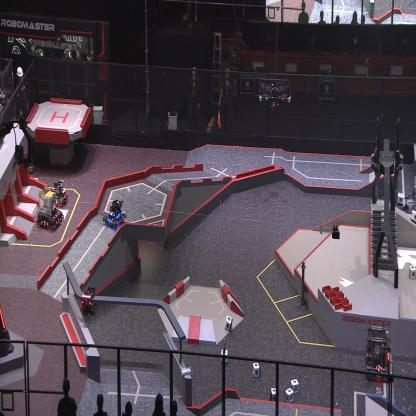car: (35, 184, 65, 232), (366, 325, 392, 380), (101, 197, 125, 231), (396, 185, 416, 225), (48, 178, 70, 209)
